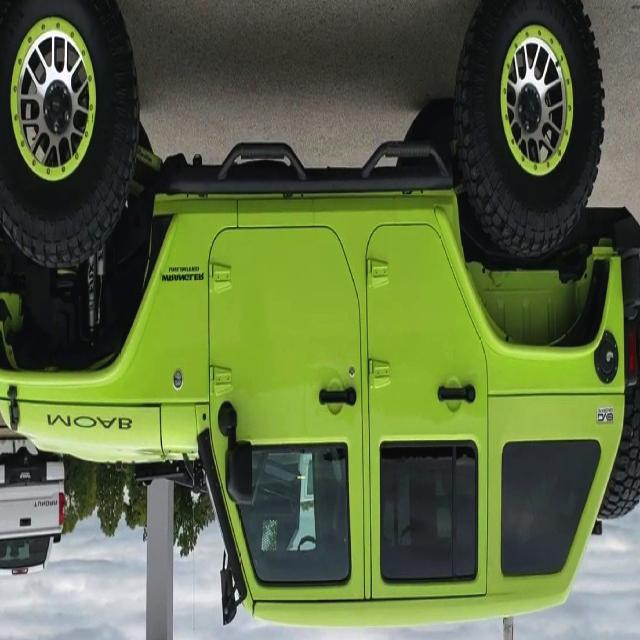green: (0, 47, 640, 613)
